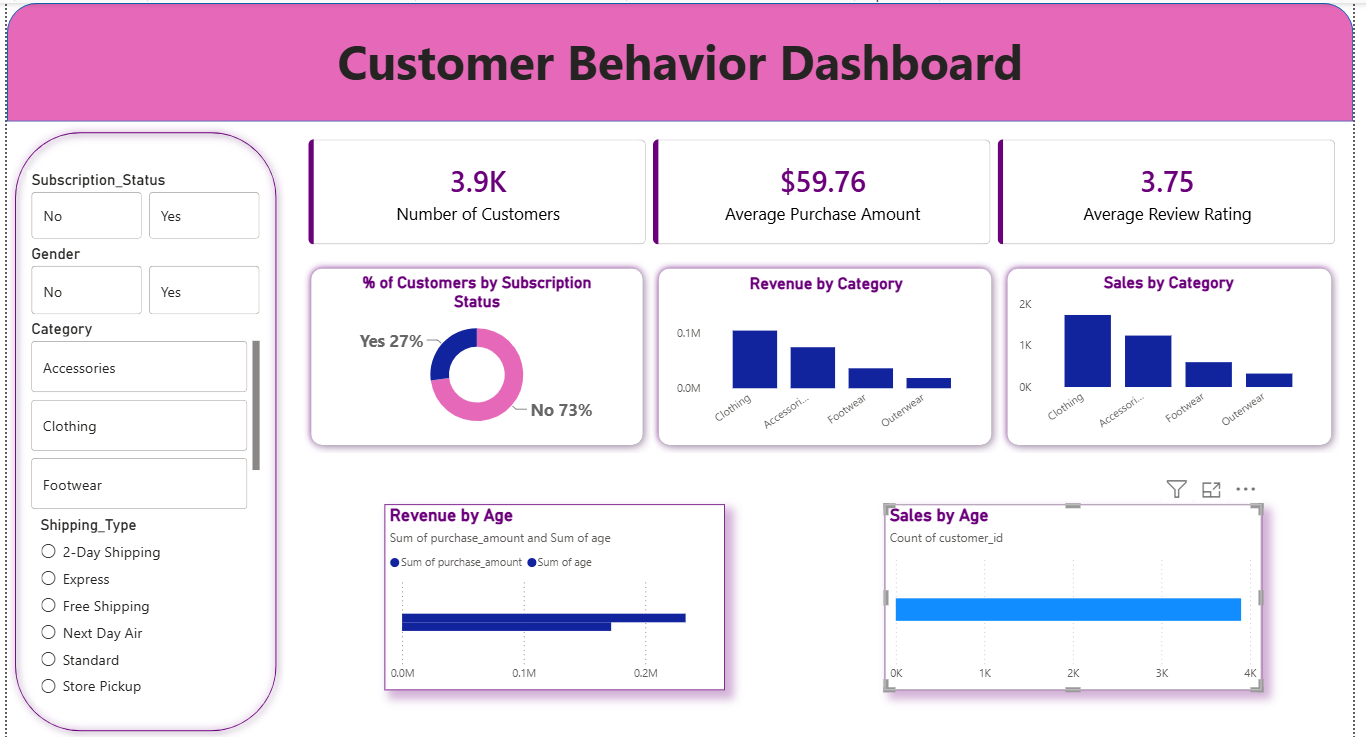

The dashboard page shown, as its layout file describes it:
{"tool":"powerbi","page":{"name":"Page 1","canvas":[1500,820],"ordinal":0},"visuals":[{"type":"cardVisual","fields":{"Data":["public customer.Number of Customers","public customer.Average Purchase Amount","public customer.Average Review Rating"]},"box":[318.9,135.1,1181,151.8],"z":0},{"type":"shape","box":[0,0,1499.9,132.3],"z":1000},{"type":"textbox","box":[0,23.7,1499.9,82.2],"z":2000},{"type":"shape","box":[330.1,286.9,387.2,214.5],"z":3000},{"type":"donutChart","title":"% of Customers by Subscription Status","fields":{"Category":["public customer.subscription_status"],"Y":["CountNonNull(public customer.customer_id)"]},"box":[374.6,300.8,298,185.2],"z":4000},{"type":"shape","box":[1105.8,286.9,378.8,214.5],"z":5000},{"type":"shape","box":[717.2,286.9,388.6,214.5],"z":6000},{"type":"clusteredColumnChart","title":"Revenue by Category","fields":{"Y":["Sum(public customer.purchase_amount)"],"Category":["public customer.category"]},"box":[740.9,302.2,344,185.2],"z":7000},{"type":"clusteredColumnChart","title":"Sales by Category","fields":{"Y":["CountNonNull(public customer.customer_id)"],"Category":["public customer.category"]},"box":[1122.5,300.8,344,185.2],"z":8000},{"type":"shape","box":[0,135.1,309.2,685.2],"z":9000},{"type":"advancedSlicerVisual","fields":{"Values":["public customer.subscription_status"]},"box":[22.3,186.6,264.6,82.2],"z":10000},{"type":"advancedSlicerVisual","fields":{"Values":["public customer.subscription_status"]},"box":[22.3,268.8,264.6,83.6],"z":11000},{"type":"advancedSlicerVisual","fields":{"Values":["public customer.category"]},"box":[22.3,352.3,264.6,218.6],"z":12000},{"type":"listSlicer","fields":{"Values":["public customer.shipping_type"]},"box":[32,571,201.9,213.1],"z":13000},{"type":"clusteredBarChart","title":"Revenue by Age","fields":{"Y":["Sum(public customer.purchase_amount)","Sum(public customer.age)"]},"box":[420.6,558.5,378.8,207.5],"z":14000},{"type":"clusteredBarChart","title":"Sales by Age","fields":{"Y":["CountNonNull(public customer.customer_id)"]},"box":[977.7,558.5,420.6,207.5],"z":16000}]}

Visuals, with their boxes in screenshot pixels (x1, y1, x2, y2), scaled from the page's 1500x820 canvas onto the 1366x737 screenshot:
cardVisual - public customer.Number of Customers x public customer.Average Purchase Amount: 290:121:1365:258
shape: 0:0:1365:119
textbox: 0:21:1365:95
shape: 301:258:653:451
"% of Customers by Subscription Status" donutChart: 341:270:613:437
shape: 1007:258:1352:451
shape: 653:258:1007:451
"Revenue by Category" clusteredColumnChart: 675:272:988:438
"Sales by Category" clusteredColumnChart: 1022:270:1335:437
shape: 0:121:282:736
advancedSlicerVisual - public customer.subscription_status: 20:168:261:242
advancedSlicerVisual - public customer.subscription_status: 20:242:261:317
advancedSlicerVisual - public customer.category: 20:317:261:513
listSlicer - public customer.shipping_type: 29:513:213:705
"Revenue by Age" clusteredBarChart: 383:502:728:688
"Sales by Age" clusteredBarChart: 890:502:1273:688
